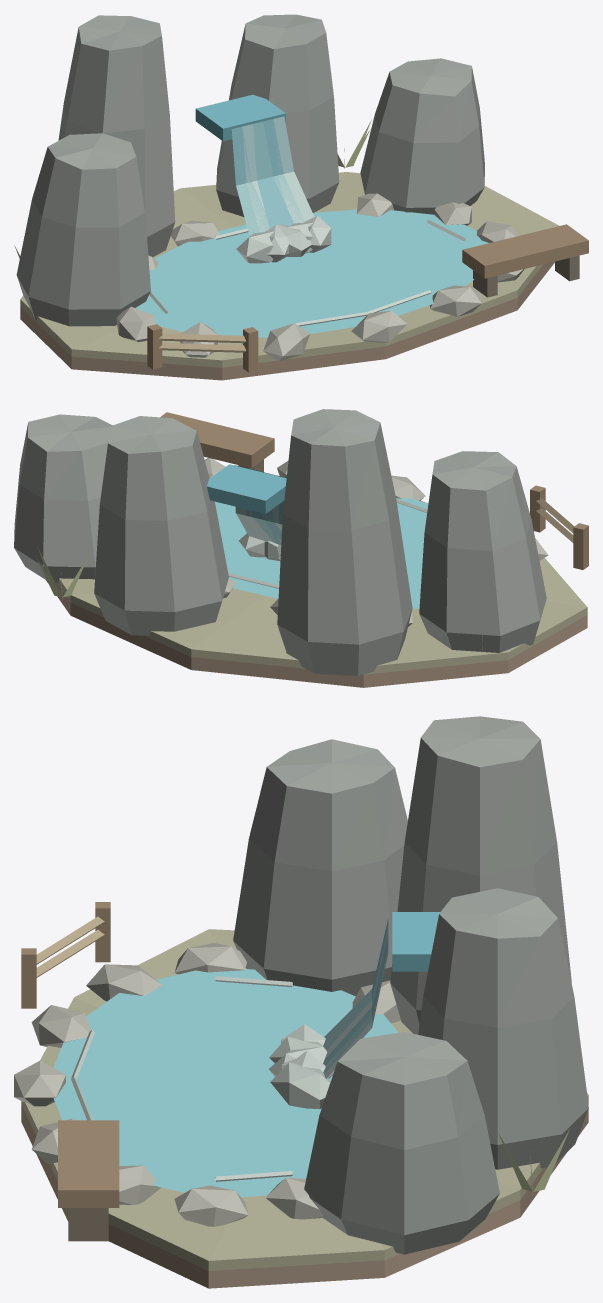
3 renders of one model, top to bottom at view 1: azimuth 30°, elevation 25°; view 2: azimuth 150°, elevation 25°; view 3: azimuth 270°, elevation 25°, orthographic. The views are drawn at different scales.
Parts seen in each view (by area): view 1: S14; view 2: S14; view 3: S14.
Boxes of the visible parts, x1,y1,x2,y2 form: S14: (14,14,588,380); S14: (14,409,588,687); S14: (14,716,588,1288).
Size of the model in its own units: 4.87 by 2.18 by 3.57.
